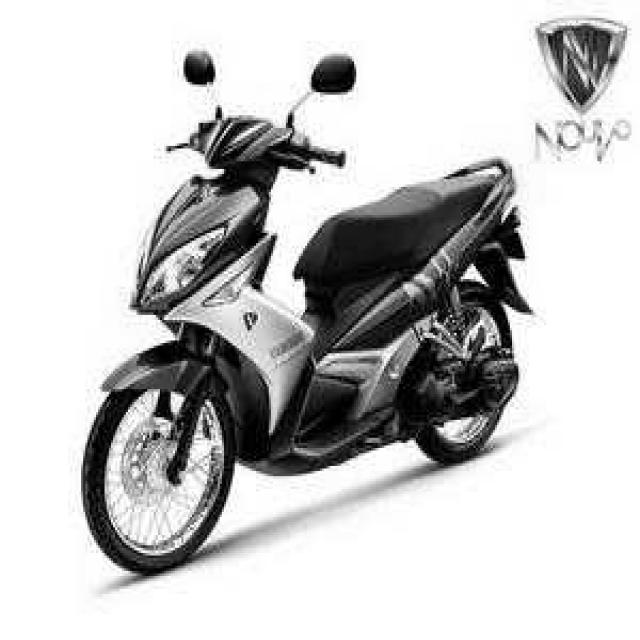Motorcycle: (82, 115, 530, 570)
